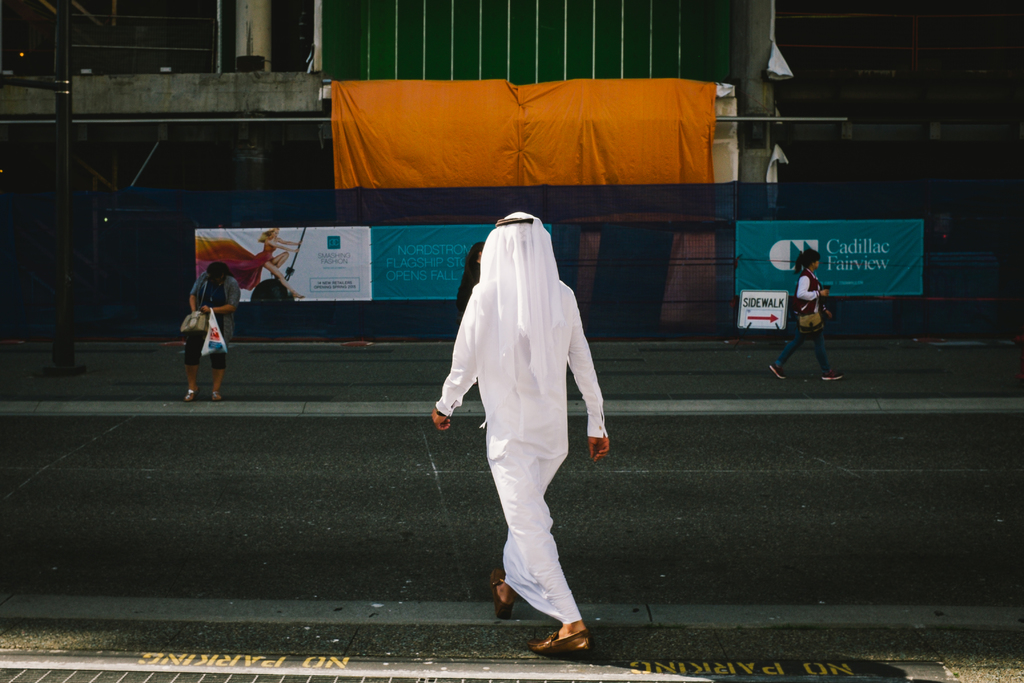Person: (194, 227, 302, 301)
